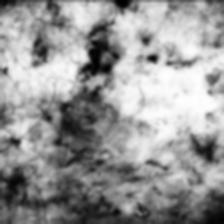Potentially Malignant Skin Tumors: (65, 24, 119, 143)
